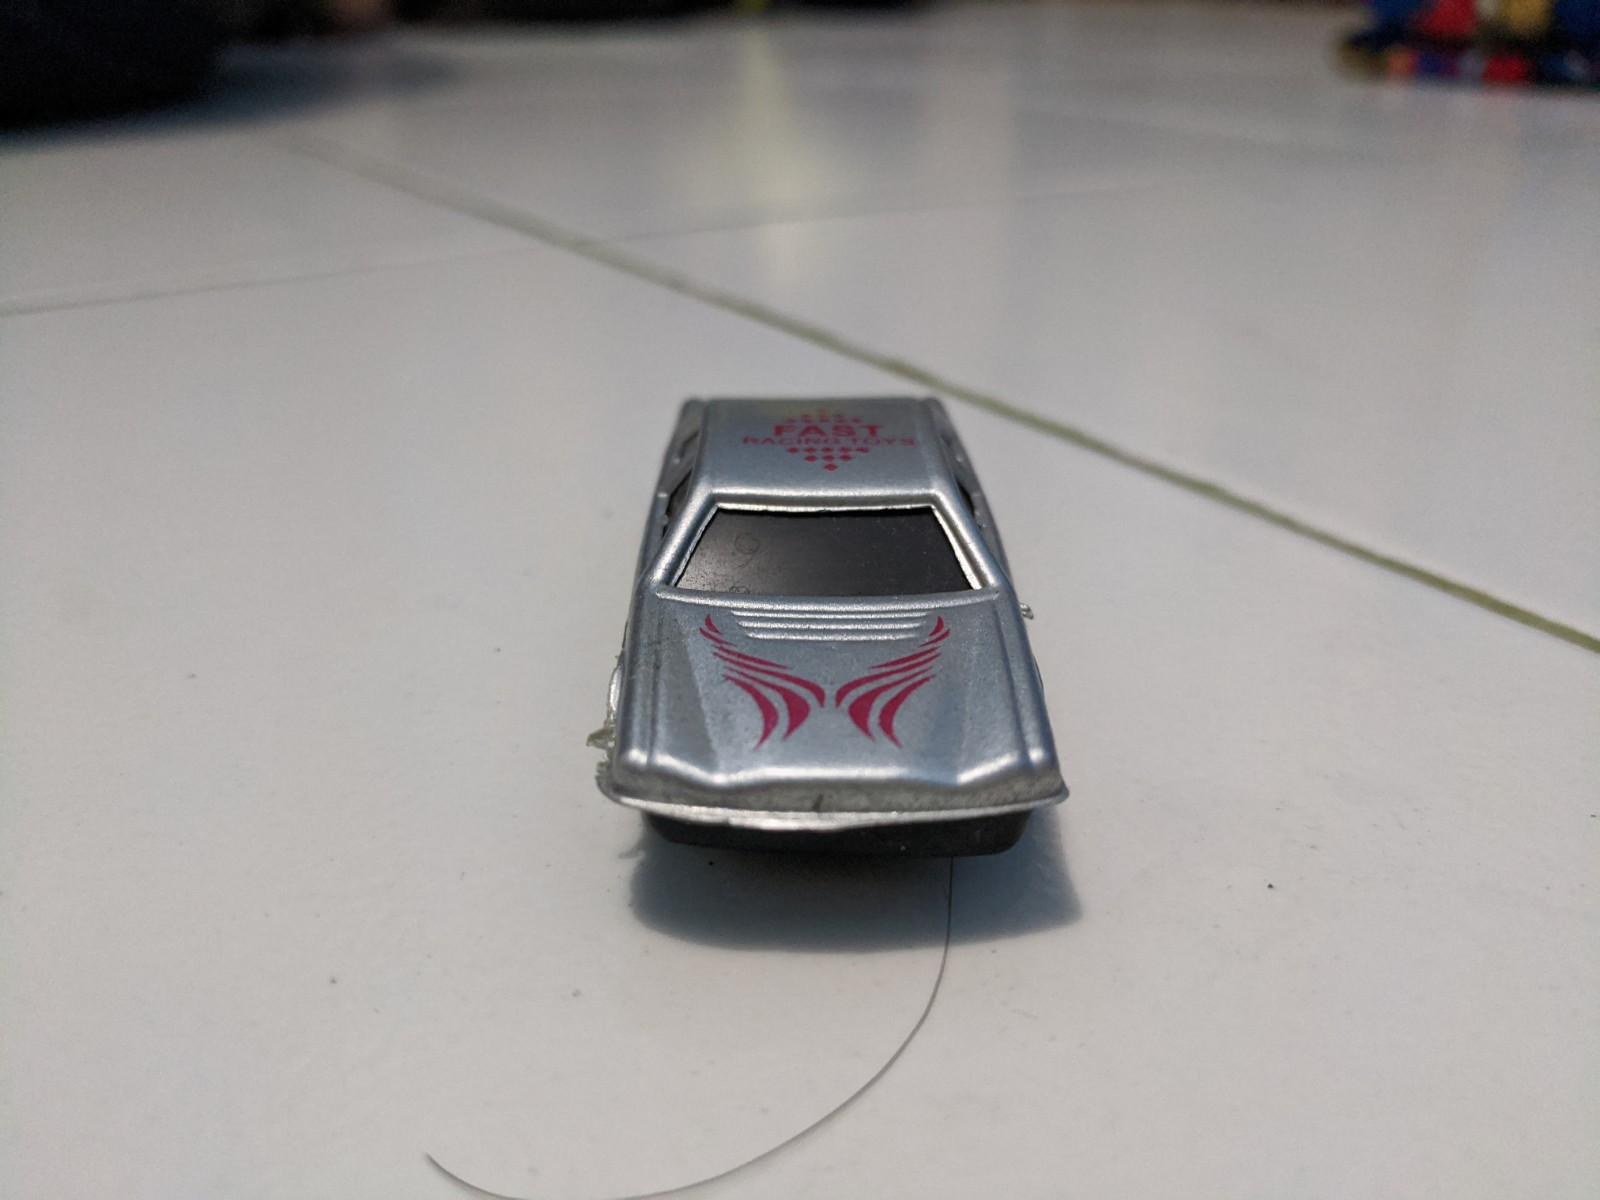mobil: (655, 400, 1060, 876)
